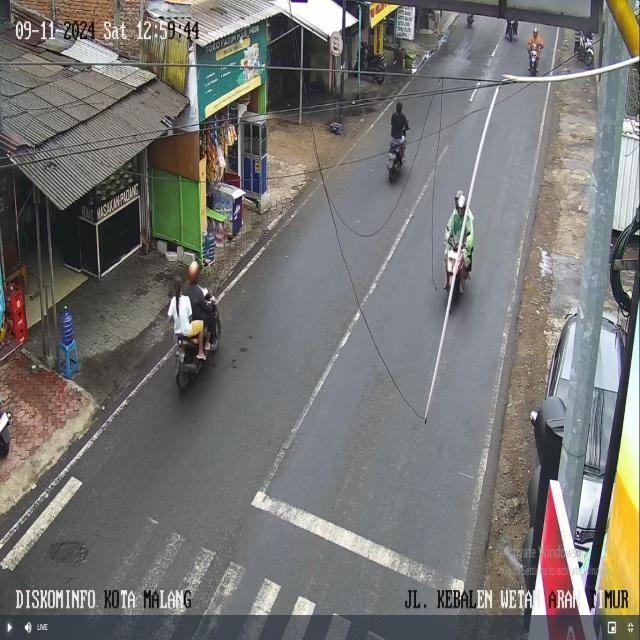Helmet: (188, 260, 200, 282), (456, 194, 466, 211), (454, 190, 463, 203), (533, 27, 538, 35)
